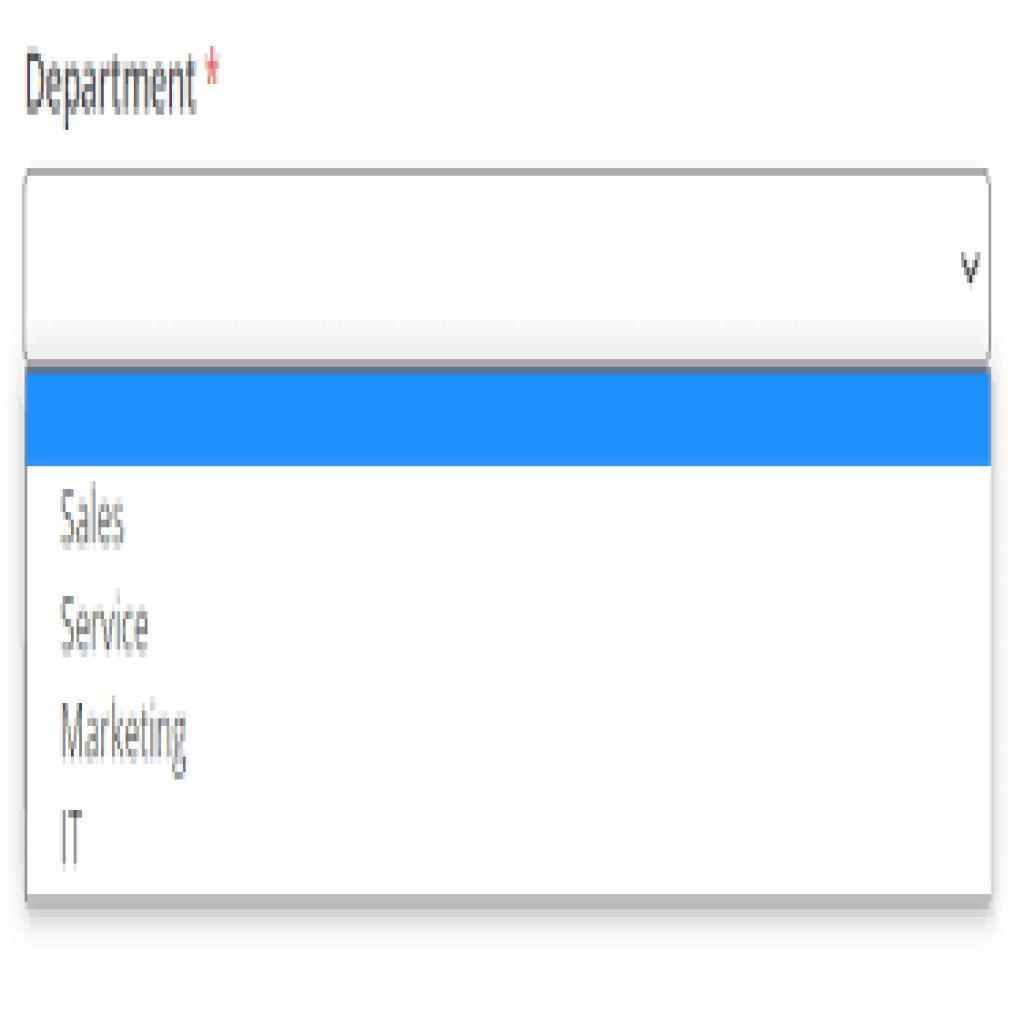dropdown: (25, 173, 987, 363)
